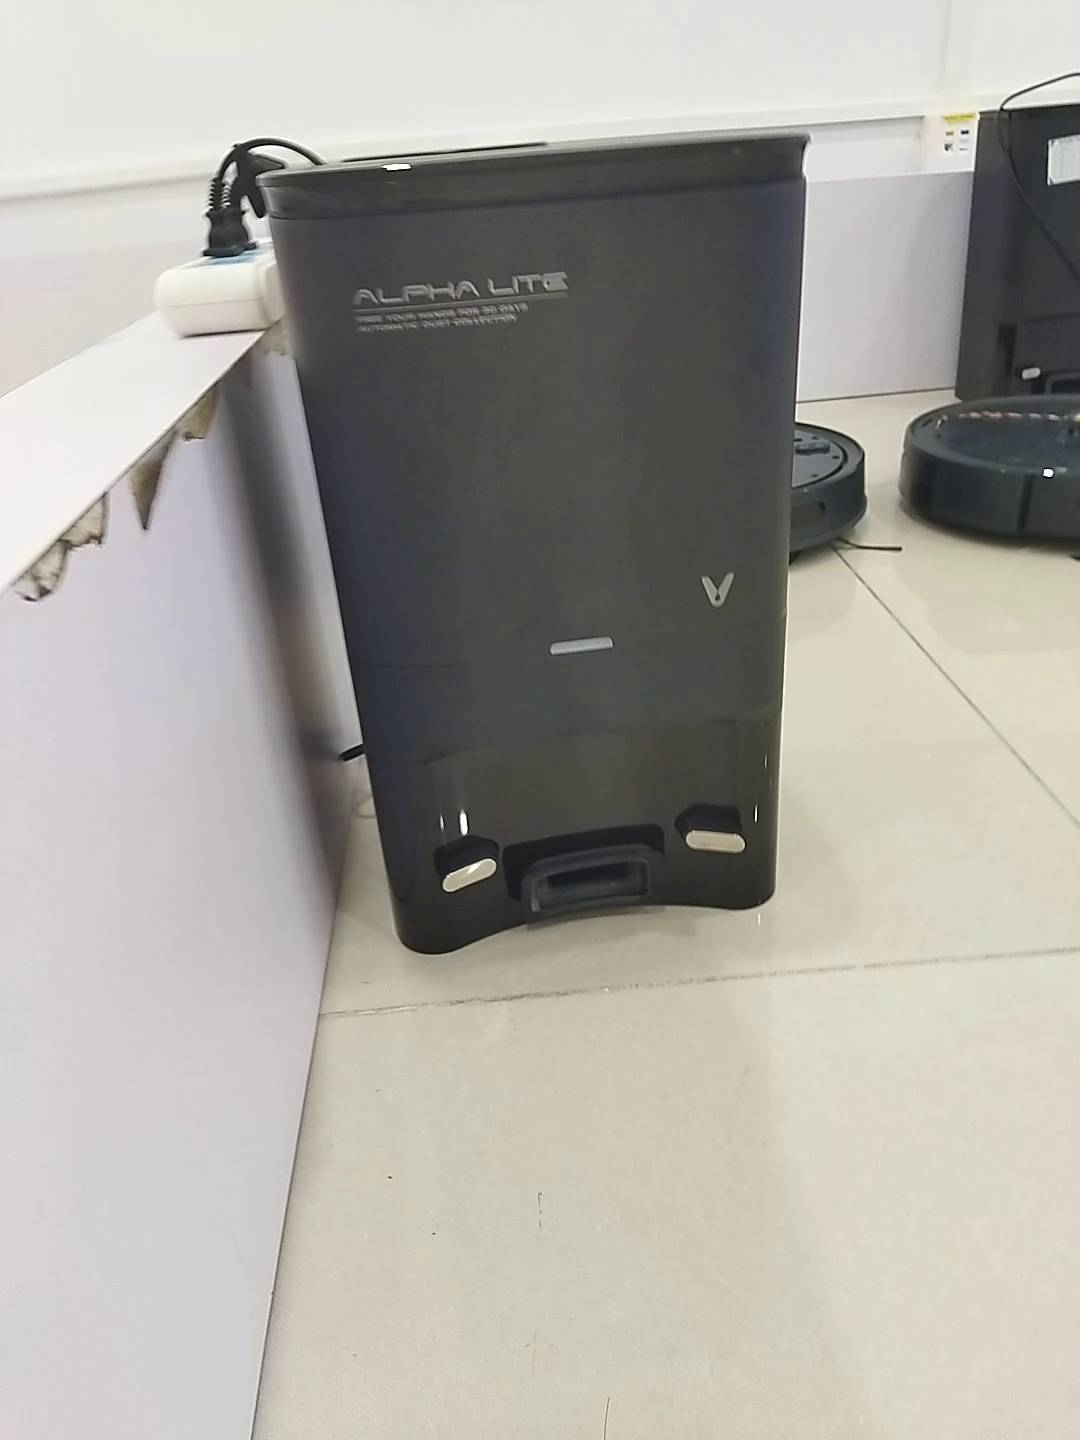dust collecting barrel: (255, 135, 815, 956)
